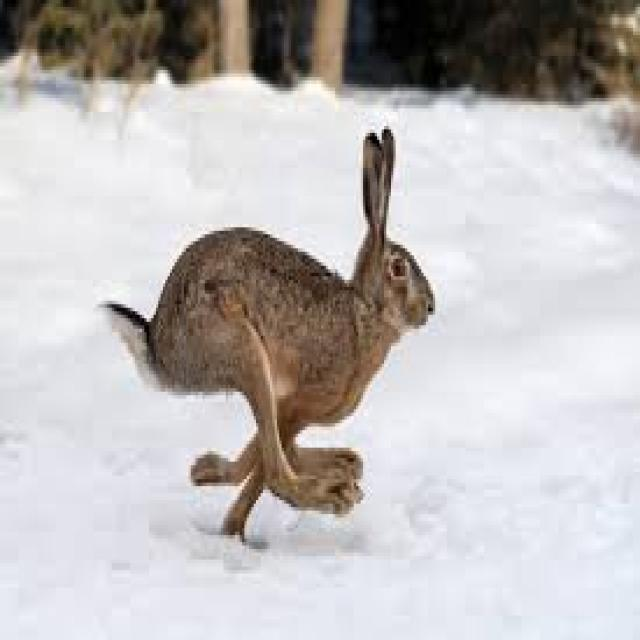Hare: (94, 118, 436, 560)
